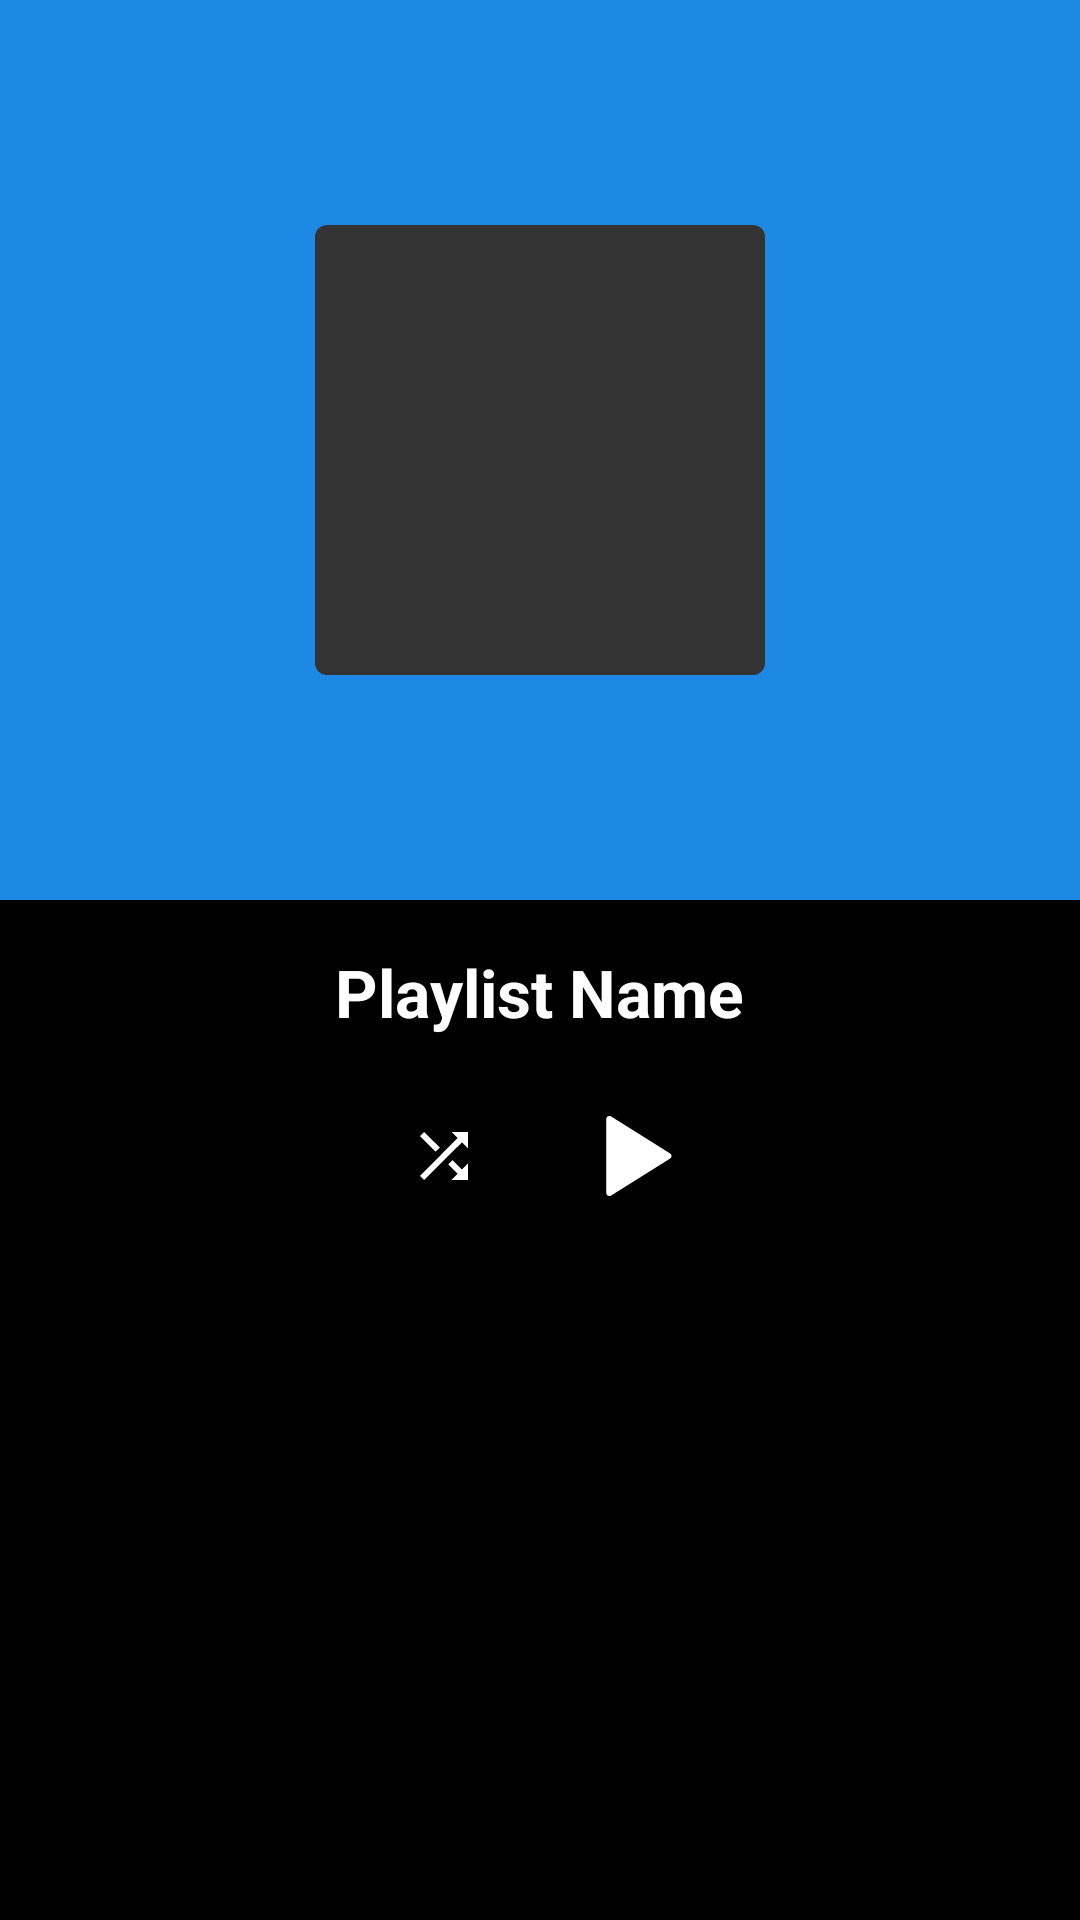

Icons on this 1080px x 1920px Android screen, each with its box as (x1, y1, x2, y2):
shuffle: (420, 1132, 468, 1180)
